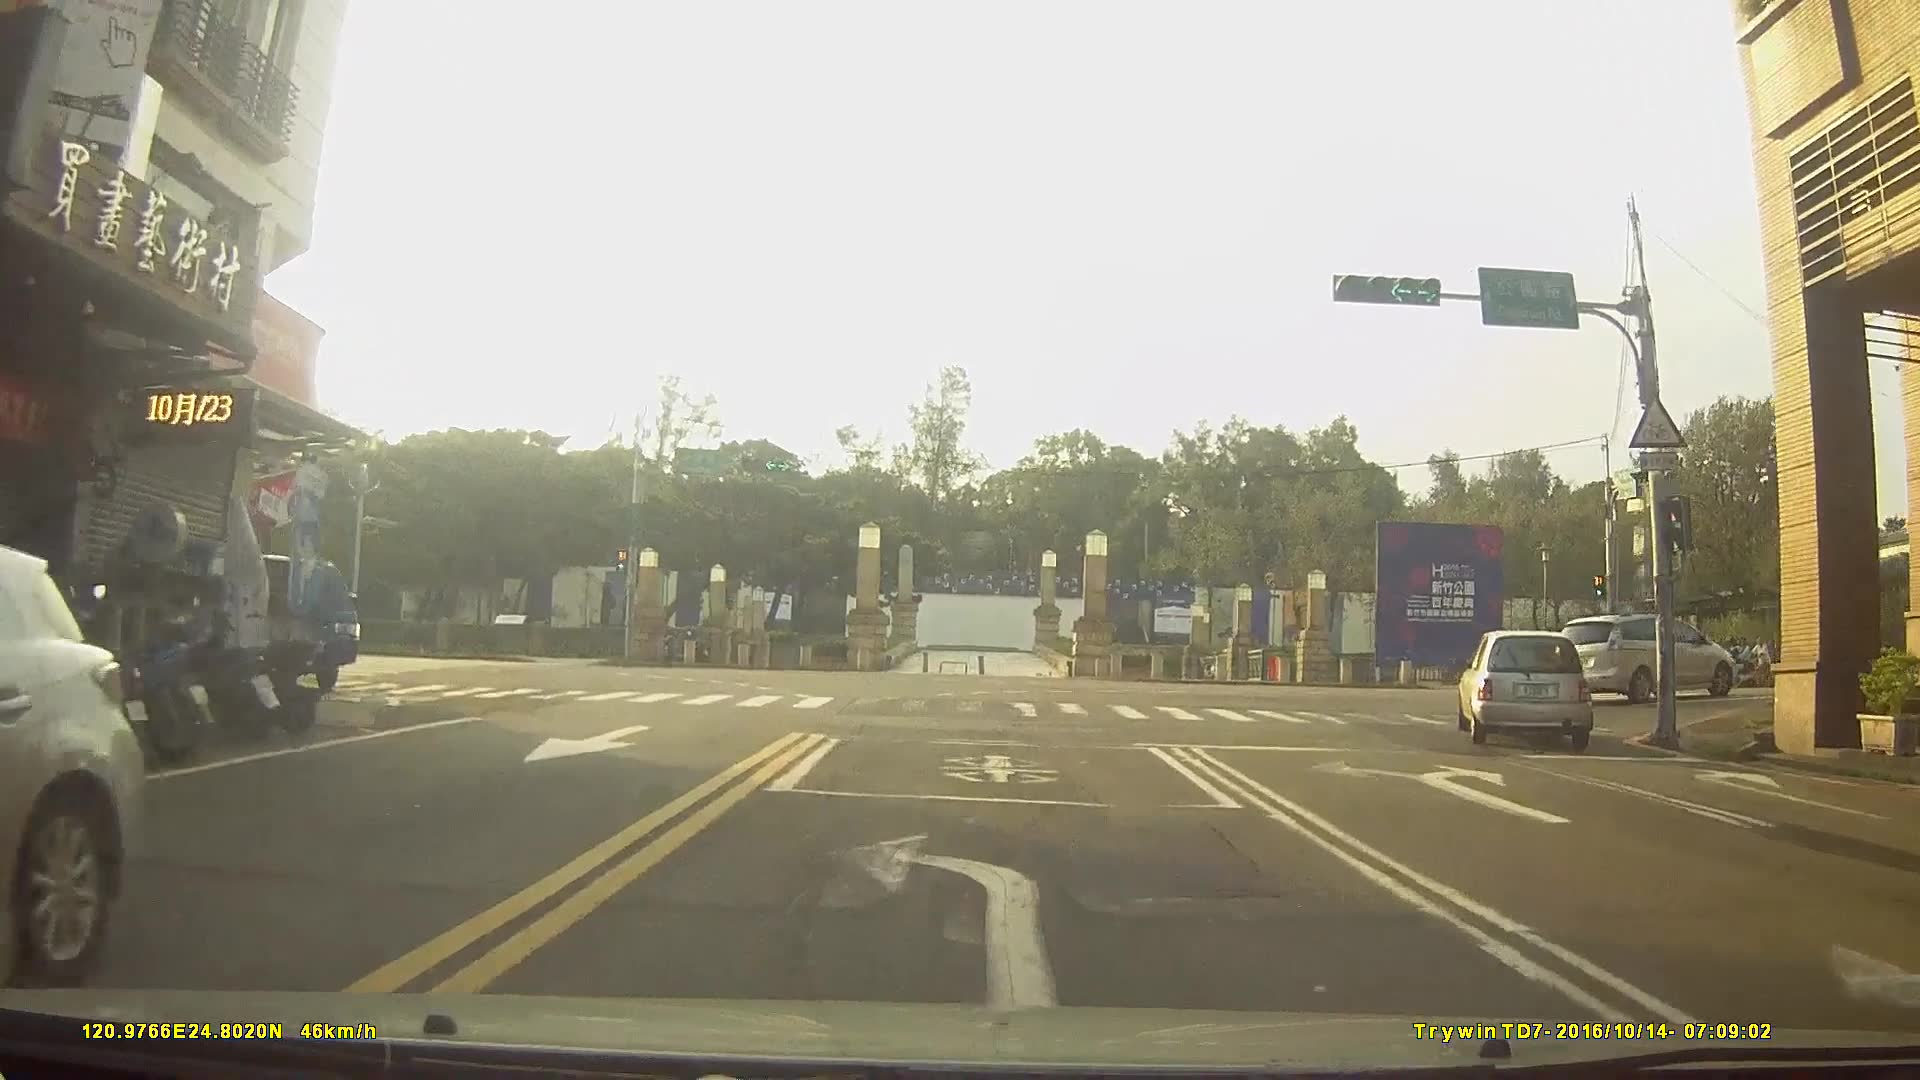vehicle: (0, 541, 146, 993), (229, 549, 361, 688), (1455, 626, 1596, 750), (1557, 611, 1734, 703)
